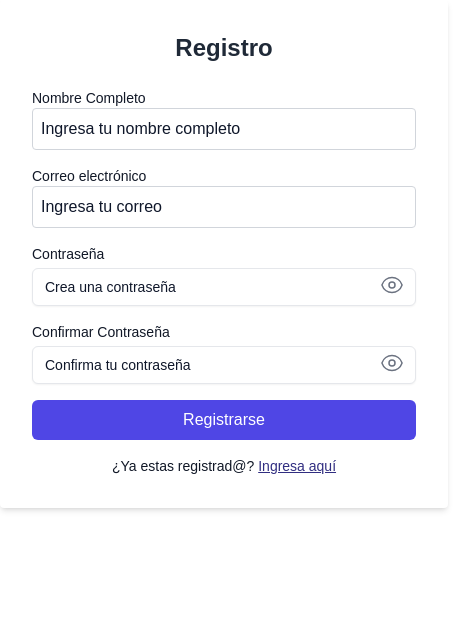
Test: RegisterForm › shows error if password does not meet validation criteria
Type "Test User" into the field with test id "fullName" at [224, 129], box [32,108,416,150]
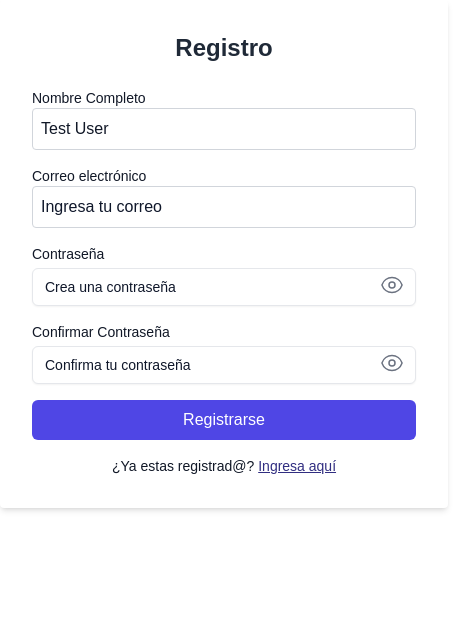
Type "test@example.com" into the field with test id "email" at [224, 207], box [32,186,416,228]
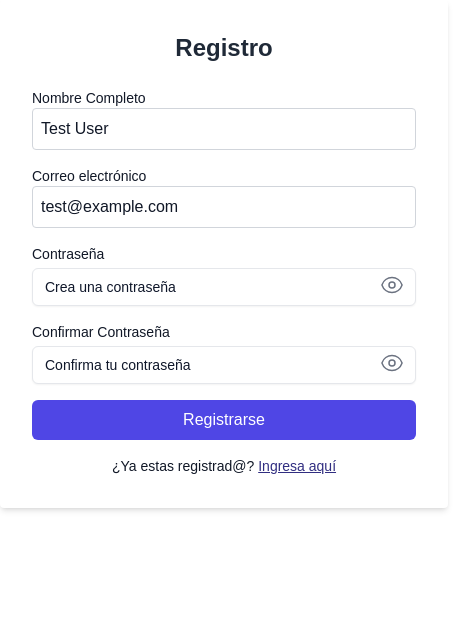
Type "123" into the password field with test id "password" at [224, 287], box [32,268,416,306]
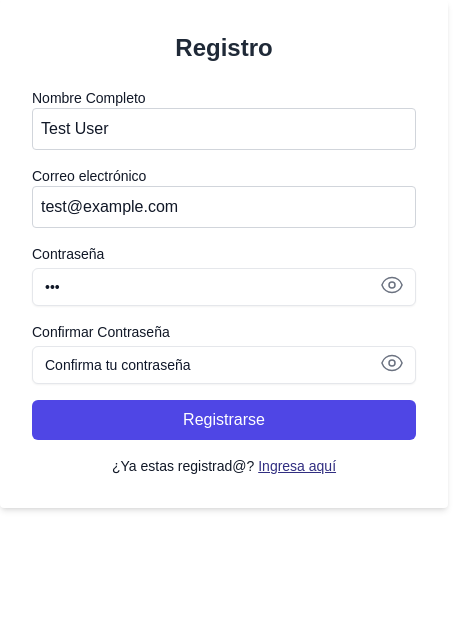
Type "123" into the password field with test id "repeatPassword" at [224, 365], box [32,346,416,384]
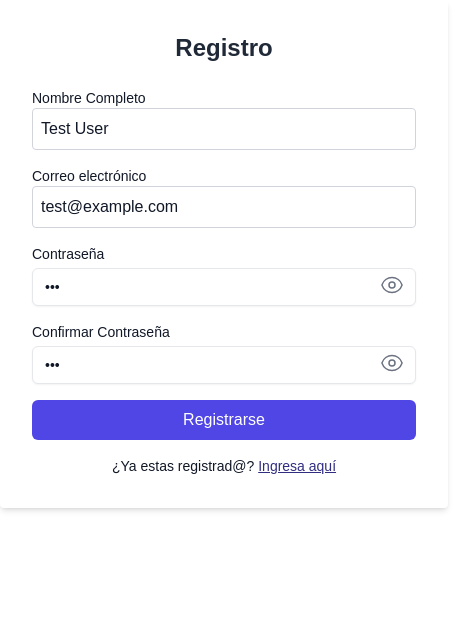
Click the button "Registrarse" at [224, 420], box [32,400,416,440]
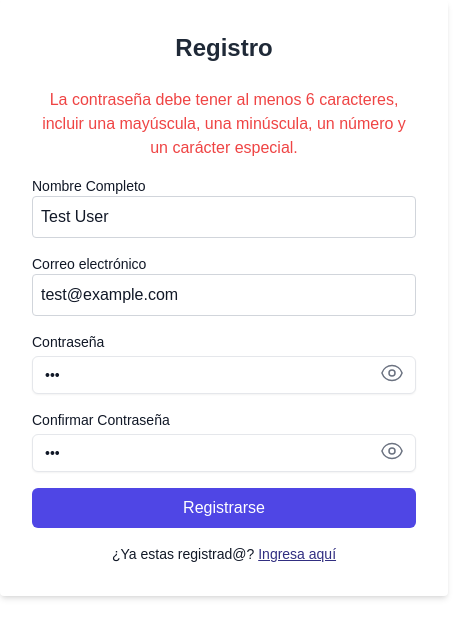
expect the text "La contraseña debe tener al menos 6 caracteres" is shown: met, box [42,91,406,156]
